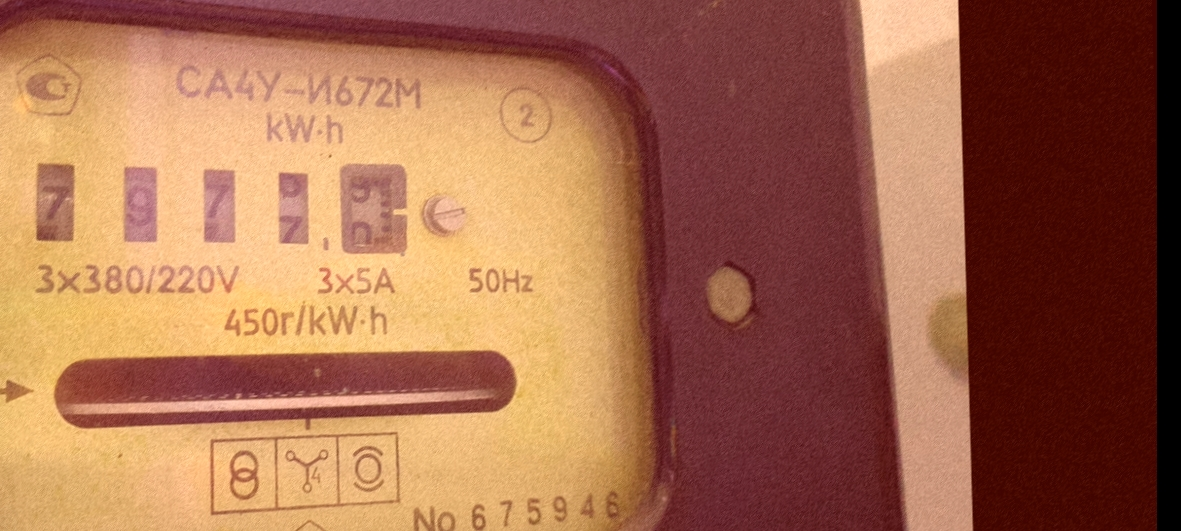0: (350, 216, 374, 246)
7: (38, 179, 73, 225), (277, 205, 308, 248), (204, 179, 233, 220)
9: (124, 181, 156, 229), (347, 172, 378, 205)
screen: (22, 139, 426, 277)
